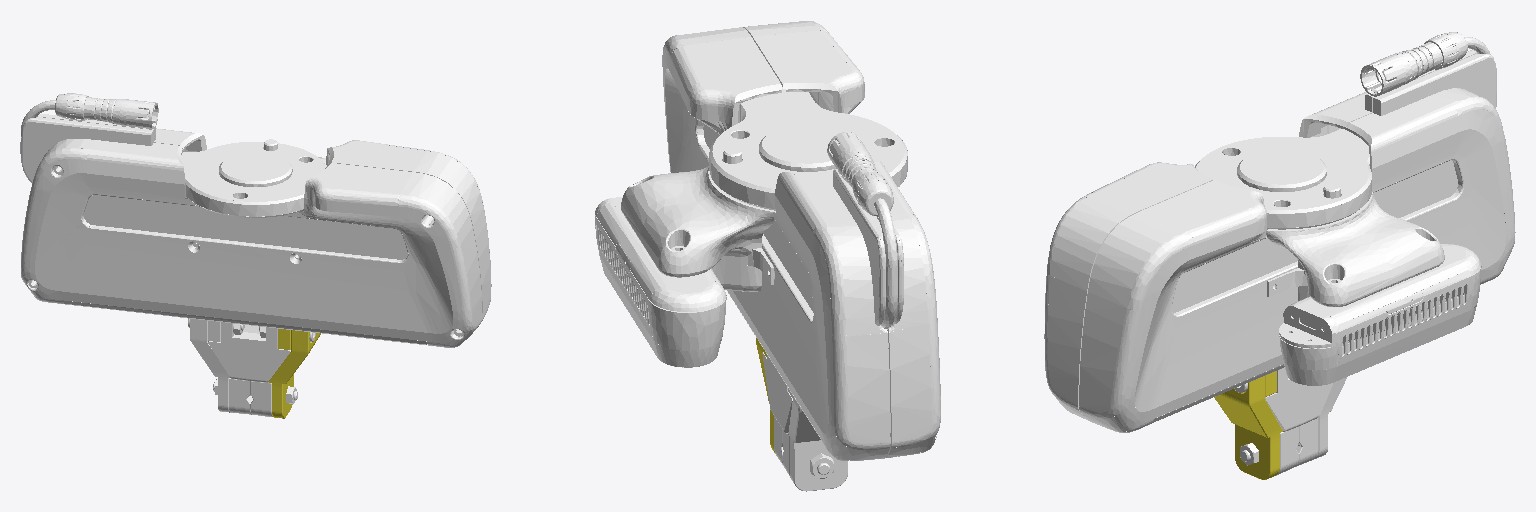
URDF robot description (panda):
<?xml version="1.0" ?>
<!-- =================================================================================== -->
<!-- |    This document was autogenerated by xacro from panda_arm_hand.urdf.xacro      | -->
<!-- |    EDITING THIS FILE BY HAND IS NOT RECOMMENDED                                 | -->
<!-- =================================================================================== -->
<robot name="panda" xmlns:xacro="http://www.ros.org/wiki/xacro">
    <link name="World" />
    <link name="panda_link0">
        <inertial>
            <origin xyz="0 0 0" rpy="0 0 0" />
            <mass value="3.06" />
            <inertia ixx="0.3" ixy="0.0" ixz="0.0" iyy="0.3" iyz="0.0" izz="0.3" />
        </inertial>
        <visual>
            <geometry>
                <mesh filename="package://franka_description/meshes/visual/link0.dae" />
            </geometry>
            <material name="panda_white" />
        </visual>
        <collision>
            <geometry>
                <mesh filename="package://franka_description/meshes/collision/link0.stl" />
            </geometry>
            <material name="panda_white" />
        </collision>
    </link>
    <joint name="virtual_joint" type="fixed">
        <parent link="World" />
        <child link="panda_link0" />
    </joint>
    <link name="panda_link1">
        <inertial>
            <origin xyz="0 0 0" rpy="0 0 0" />
            <mass value="3.06" />
            <inertia ixx="0.3" ixy="0.0" ixz="0.0" iyy="0.3" iyz="0.0" izz="0.3" />
        </inertial>
        <visual>
            <geometry>
                <mesh filename="package://franka_description/meshes/visual/link1.dae" />
            </geometry>
            <material name="panda_white" />
        </visual>
        <collision>
            <geometry>
                <mesh filename="package://franka_description/meshes/collision/link1.stl" />
            </geometry>
            <material name="panda_white" />
        </collision>
    </link>
    <joint name="panda_joint1" type="revolute">
        <safety_controller k_position="100.0" k_velocity="40.0" soft_lower_limit="-2.8973" soft_upper_limit="2.8973" />
        <origin rpy="0 0 0" xyz="0 0 0.333" />
        <parent link="panda_link0" />
        <child link="panda_link1" />
        <axis xyz="0 0 1" />
        <limit effort="87" lower="-2.9671" upper="2.9671" velocity="2.1750" />
    </joint>
    <link name="panda_link2">
        <inertial>
            <origin xyz="0 0 0" rpy="0 0 0" />
            <mass value="3.06" />
            <inertia ixx="0.3" ixy="0.0" ixz="0.0" iyy="0.3" iyz="0.0" izz="0.3" />
        </inertial>
        <visual>
            <geometry>
                <mesh filename="package://franka_description/meshes/visual/link2.dae" />
            </geometry>
            <material name="panda_white" />
        </visual>
        <collision>
            <geometry>
                <mesh filename="package://franka_description/meshes/collision/link2.stl" />
            </geometry>
            <material name="panda_white" />
        </collision>
    </link>
    <joint name="panda_joint2" type="revolute">
        <safety_controller k_position="100.0" k_velocity="40.0" soft_lower_limit="-1.7628" soft_upper_limit="1.7628" />
        <origin rpy="-1.57079632679 0 0" xyz="0 0 0" />
        <parent link="panda_link1" />
        <child link="panda_link2" />
        <axis xyz="0 0 1" />
        <limit effort="87" lower="-1.8326" upper="1.8326" velocity="2.1750" />
    </joint>
    <link name="panda_link3">
        <inertial>
            <origin xyz="0 0 0" rpy="0 0 0" />
            <mass value="3.06" />
            <inertia ixx="0.3" ixy="0.0" ixz="0.0" iyy="0.3" iyz="0.0" izz="0.3" />
        </inertial>
        <visual>
            <geometry>
                <mesh filename="package://franka_description/meshes/visual/link3.dae" />
            </geometry>
            <material name="panda_white" />
        </visual>
        <collision>
            <geometry>
                <mesh filename="package://franka_description/meshes/collision/link3.stl" />
            </geometry>
            <material name="panda_white" />
        </collision>
    </link>
    <joint name="panda_joint3" type="revolute">
        <safety_controller k_position="100.0" k_velocity="40.0" soft_lower_limit="-2.8973" soft_upper_limit="2.8973" />
        <origin rpy="1.57079632679 0 0" xyz="0 -0.316 0" />
        <parent link="panda_link2" />
        <child link="panda_link3" />
        <axis xyz="0 0 1" />
        <limit effort="87" lower="-2.9671" upper="2.9671" velocity="2.1750" />
    </joint>
    <link name="panda_link4">
        <inertial>
            <origin xyz="0 0 0" rpy="0 0 0" />
            <mass value="3.06" />
            <inertia ixx="0.3" ixy="0.0" ixz="0.0" iyy="0.3" iyz="0.0" izz="0.3" />
        </inertial>
        <visual>
            <geometry>
                <mesh filename="package://franka_description/meshes/visual/link4.dae" />
            </geometry>
            <material name="panda_white" />
        </visual>
        <collision>
            <geometry>
                <mesh filename="package://franka_description/meshes/collision/link4.stl" />
            </geometry>
            <material name="panda_white" />
        </collision>
    </link>
    <joint name="panda_joint4" type="revolute">
        <safety_controller k_position="100.0" k_velocity="40.0" soft_lower_limit="-3.0718" soft_upper_limit="-0.0698" />
        <origin rpy="1.57079632679 0 0" xyz="0.0825 0 0" />
        <parent link="panda_link3" />
        <child link="panda_link4" />
        <axis xyz="0 0 1" />
        <limit effort="87" lower="-3.1416" upper="0.0" velocity="2.1750" />
    </joint>
    <link name="panda_link5">
        <inertial>
            <origin xyz="0 0 0" rpy="0 0 0" />
            <mass value="3.06" />
            <inertia ixx="0.3" ixy="0.0" ixz="0.0" iyy="0.3" iyz="0.0" izz="0.3" />
        </inertial>
        <visual>
            <geometry>
                <mesh filename="package://franka_description/meshes/visual/link5.dae" />
            </geometry>
            <material name="panda_white" />
        </visual>
        <collision>
            <geometry>
                <mesh filename="package://franka_description/meshes/collision/link5.stl" />
            </geometry>
            <material name="panda_white" />
        </collision>
    </link>
    <joint name="panda_joint5" type="revolute">
        <safety_controller k_position="100.0" k_velocity="40.0" soft_lower_limit="-2.8973" soft_upper_limit="2.8973" />
        <origin rpy="-1.57079632679 0 0" xyz="-0.0825 0.384 0" />
        <parent link="panda_link4" />
        <child link="panda_link5" />
        <axis xyz="0 0 1" />
        <limit effort="12" lower="-2.9671" upper="2.9671" velocity="2.6100" />
    </joint>
    <link name="panda_link6">
        <inertial>
            <origin xyz="0 0 0" rpy="0 0 0" />
            <mass value="3.06" />
            <inertia ixx="0.3" ixy="0.0" ixz="0.0" iyy="0.3" iyz="0.0" izz="0.3" />
        </inertial>
        <visual>
            <geometry>
                <mesh filename="package://franka_description/meshes/visual/link6.dae" />
            </geometry>
            <material name="panda_white" />
        </visual>
        <collision>
            <geometry>
                <mesh filename="package://franka_description/meshes/collision/link6.stl" />
            </geometry>
            <material name="panda_white" />
        </collision>
    </link>
    <joint name="panda_joint6" type="revolute">
        <safety_controller k_position="100.0" k_velocity="40.0" soft_lower_limit="-0.0175" soft_upper_limit="3.7525" />
        <origin rpy="1.57079632679 0 0" xyz="0 0 0" />
        <parent link="panda_link5" />
        <child link="panda_link6" />
        <axis xyz="0 0 1" />
        <limit effort="12" lower="-0.0873" upper="3.8223" velocity="2.6100" />
    </joint>
    <link name="panda_link7">
        <inertial>
            <origin xyz="0 0 0" rpy="0 0 0" />
            <mass value="3.06" />
            <inertia ixx="0.3" ixy="0.0" ixz="0.0" iyy="0.3" iyz="0.0" izz="0.3" />
        </inertial>
        <visual>
            <geometry>
                <mesh filename="package://franka_description/meshes/visual/link7.dae" />
            </geometry>
            <material name="panda_white" />
        </visual>
        <collision>
            <geometry>
                <mesh filename="package://franka_description/meshes/collision/link7.stl" />
            </geometry>
            <material name="panda_white" />
        </collision>
    </link>
    <joint name="panda_joint7" type="revolute">
        <safety_controller k_position="100.0" k_velocity="40.0" soft_lower_limit="-2.8973" soft_upper_limit="2.8973" />
        <origin rpy="1.57079632679 0 0" xyz="0.088 0 0" />
        <parent link="panda_link6" />
        <child link="panda_link7" />
        <axis xyz="0 0 1" />
        <limit effort="12" lower="-2.9671" upper="2.9671" velocity="2.6100" />
    </joint>
    <link name="panda_link8">
        <inertial>
            <origin xyz="0 0 0" rpy="0 0 0" />
            <mass value="3.06" />
            <inertia ixx="0.3" ixy="0.0" ixz="0.0" iyy="0.3" iyz="0.0" izz="0.3" />
        </inertial>
    </link>
    <joint name="panda_joint8" type="fixed">
        <origin rpy="0 0 0" xyz="0 0 0.107" />
        <parent link="panda_link7" />
        <child link="panda_link8" />
        <axis xyz="0 0 0" />
    </joint>
    <joint name="panda_hand_joint" type="fixed">
        <parent link="panda_link8" />
        <child link="panda_hand" />
        <origin rpy="0 0 -0.785398163397" xyz="0 0 0" />
    </joint>
    <link name="panda_hand">
        <!-- <visual>
      <geometry>
        <mesh filename="package://franka_description/meshes/visual/hand.dae"/>
      </geometry>
      <material name="panda_white"/>
    </visual>
    <collision>
      <geometry>
        <mesh filename="package://franka_description/meshes/collision/hand.stl"/>
      </geometry>
      <material name="panda_white"/>
    </collision> -->
        <inertial>
            <origin xyz="0 0 0" rpy="0 0 0" />
            <mass value="0.68" />
            <inertia ixx="0.1" ixy="0.0" ixz="0.0" iyy="0.1" iyz="0.0" izz="0.1" />
        </inertial>
        <visual>
            <origin xyz="0. 0. 0." rpy="0. 0. 0." />
            <geometry>
                <mesh filename="package://panda_w_realsense_description/meshes/panda_hand_ID234_001.obj" scale="1. 1. 1." />
            </geometry>
            <material name="panda_white" />
        </visual>
        <visual>
            <origin xyz="0. 0. 0." rpy="0. 0. 0." />
            <geometry>
                <mesh filename="package://panda_w_realsense_description/meshes/panda_hand_ID234_001frA.obj" scale="1. 1. 1." />
            </geometry>
            <material name="panda_white" />
        </visual>
        <visual>
            <origin xyz="0. 0. 0." rpy="0. 0. 0." />
            <geometry>
                <mesh filename="package://panda_w_realsense_description/meshes/panda_hand_ID234_001jEI.obj" scale="1. 1. 1." />
            </geometry>
            <material name="panda_white" />
        </visual>
        <visual>
            <origin xyz="0. 0. 0." rpy="0. 0. 0." />
            <geometry>
                <mesh filename="package://panda_w_realsense_description/meshes/panda_hand_ID234_001m4u.obj" scale="1. 1. 1." />
            </geometry>
            <material name="panda_white" />
        </visual>
        <visual>
            <origin xyz="0. 0. 0." rpy="0. 0. 0.0000002" />
            <geometry>
                <mesh filename="package://panda_w_realsense_description/meshes/realsense_ID4_000.obj" scale="1. 1. 1." />
            </geometry>
            <material name="panda_white" />
        </visual>
        <visual>
            <origin xyz="0. 0. 0." rpy="0. 0. 0.0000002" />
            <geometry>
                <mesh filename="package://panda_w_realsense_description/meshes/realsense_ID4_000frA.obj" scale="1. 1. 1." />
            </geometry>
            <material name="panda_white" />
        </visual>
        <visual>
            <origin xyz="0. 0. 0." rpy="0. 0. 0.0000002" />
            <geometry>
                <mesh filename="package://panda_w_realsense_description/meshes/realsense_ID4_000jEI.obj" scale="1. 1. 1." />
            </geometry>
            <material name="panda_white" />
        </visual>
        <visual>
            <origin xyz="0. 0. 0." rpy="0. 0. 0.0000002" />
            <geometry>
                <mesh filename="package://panda_w_realsense_description/meshes/realsense_ID4_000m4u.obj" scale="1. 1. 1." />
            </geometry>
            <material name="panda_white" />
        </visual>
        <collision>
            <origin xyz="0. 0. 0." rpy="0. 0. 0." />
            <geometry>
                <mesh filename="package://panda_w_realsense_description/meshes/panda_hand_ID234_001frA.obj" scale="1. 1. 1." />
            </geometry>
            <material name="panda_white" />
        </collision>
        <collision>
            <origin xyz="0. 0. 0." rpy="0. 0. 0." />
            <geometry>
                <mesh filename="package://panda_w_realsense_description/meshes/panda_hand_ID234_001m4u.obj" scale="1. 1. 1." />
            </geometry>
            <material name="panda_white" />
        </collision>
        <collision>
            <origin xyz="0. 0. 0." rpy="0. 0. 0.0000002" />
            <geometry>
                <mesh filename="package://panda_w_realsense_description/meshes/realsense_ID4_000.obj" scale="1. 1. 1." />
            </geometry>
            <material name="panda_white" />
        </collision>
        <collision>
            <origin xyz="0. 0. 0." rpy="0. 0. 0.0000002" />
            <geometry>
                <mesh filename="package://panda_w_realsense_description/meshes/realsense_ID4_000m4u.obj" scale="1. 1. 1." />
            </geometry>
            <material name="panda_white" />
        </collision>
    </link>
    <link name="panda_leftfinger">
        <!-- <visual>
      <geometry>
        <mesh filename="package://franka_description/meshes/visual/finger.dae"/>
      </geometry>
      <material name="panda_white"/>
    </visual>
    <collision>
      <geometry>
        <mesh filename="package://franka_description/meshes/collision/finger.stl"/>
      </geometry>
      <material name="panda_white"/>
    </collision> -->
        <inertial>
            <origin xyz="0 0 0" rpy="0 0 0" />
            <mass value="0.01" />
            <inertia ixx="0.1" ixy="0.0" ixz="0.0" iyy="0.1" iyz="0.0" izz="0.1" />
        </inertial>
        <visual>
            <origin xyz="0. 0. 0." rpy="0. 0. 0." />
            <geometry>
                <mesh filename="package://panda_w_realsense_description/meshes/geometry_ID27.obj" scale="1. 1. 1." />
            </geometry>
            <material name="panda_white" />
        </visual>
        <visual>
            <origin xyz="0. 0. 0." rpy="0. 0. 0." />
            <geometry>
                <mesh filename="package://panda_w_realsense_description/meshes/geometry_ID27fa3.obj" scale="1. 1. 1." />
            </geometry>
            <material name="panda_white" />
        </visual>
        <visual>
            <origin xyz="0. 0. 0." rpy="0. 0. 0." />
            <geometry>
                <mesh filename="package://panda_w_realsense_description/meshes/geometry_ID27SVM.obj" scale="1. 1. 1." />
            </geometry>
        </visual>
        <collision>
            <origin xyz="0. 0. 0." rpy="0. 0. 0." />
            <geometry>
                <mesh filename="package://panda_w_realsense_description/meshes/geometry_ID27.obj" scale="1. 1. 1." />
            </geometry>
            <material name="panda_white" />
        </collision>
        <collision>
            <origin xyz="0. 0. 0." rpy="0. 0. 0." />
            <geometry>
                <mesh filename="package://panda_w_realsense_description/meshes/geometry_ID27SVM.obj" scale="1. 1. 1." />
            </geometry>
            <material name="panda_white" />
        </collision>
    </link>
    <link name="panda_rightfinger">
        <!-- <visual>
      <origin rpy="0 0 3.14159265359" xyz="0 0 0"/>
      <geometry>
        <mesh filename="package://franka_description/meshes/visual/finger.dae"/>
      </geometry>
      <material name="panda_white"/>
    </visual>
    <collision>
      <origin rpy="0 0 3.14159265359" xyz="0 0 0"/>
      <geometry>
        <mesh filename="package://franka_description/meshes/collision/finger.stl"/>
      </geometry>
      <material name="panda_white"/>
    </collision> -->
        <inertial>
            <origin xyz="0 0 0" rpy="0 0 0" />
            <mass value="0.01" />
            <inertia ixx="0.1" ixy="0.0" ixz="0.0" iyy="0.1" iyz="0.0" izz="0.1" />
        </inertial>
        <visual>
            <origin xyz="0. 0. 0." rpy="0. 0. 3.1415927" />
            <geometry>
                <mesh filename="package://panda_w_realsense_description/meshes/geometry_ID27.obj" scale="1. 1. 1." />
            </geometry>
            <material name="panda_white" />
        </visual>
        <visual>
            <origin xyz="0. 0. 0." rpy="0. 0. 3.1415927" />
            <geometry>
                <mesh filename="package://panda_w_realsense_description/meshes/geometry_ID27fa3.obj" scale="1. 1. 1." />
            </geometry>
            <material name="panda_white" />
        </visual>
        <visual>
            <origin xyz="0. 0. 0." rpy="0. 0. 3.1415927" />
            <geometry>
                <mesh filename="package://panda_w_realsense_description/meshes/geometry_ID27SVM.obj" scale="1. 1. 1." />
            </geometry>
            <material name="panda_white" />
        </visual>
        <collision>
            <origin xyz="0. 0. 0." rpy="0. 0. 3.1415927" />
            <geometry>
                <mesh filename="package://panda_w_realsense_description/meshes/geometry_ID27.obj" scale="1. 1. 1." />
            </geometry>
            <material name="panda_white" />
        </collision>
        <collision>
            <origin xyz="0. 0. 0." rpy="0. 0. 3.1415927" />
            <geometry>
                <mesh filename="package://panda_w_realsense_description/meshes/geometry_ID27SVM.obj" scale="1. 1. 1." />
            </geometry>
            <material name="panda_white" />
        </collision>
    </link>
    <joint name="panda_finger_joint1" type="prismatic">
        <parent link="panda_hand" />
        <child link="panda_leftfinger" />
        <origin rpy="0 0 0" xyz="0 0 0.0584" />
        <axis xyz="0 1 0" />
        <limit effort="20" lower="0.0" upper="0.04" velocity="0.2" />
    </joint>
    <joint name="panda_finger_joint2" type="prismatic">
        <parent link="panda_hand" />
        <child link="panda_rightfinger" />
        <origin rpy="0 0 0" xyz="0 0 0.0584" />
        <axis xyz="0 -1 0" />
        <limit effort="20" lower="0.0" upper="0.04" velocity="0.2" />
        <mimic joint="panda_finger_joint1" />
    </joint>
    <material name="panda_white">
        <color rgba="1. 1. 1. 1." />
    </material>

    <transmission name="trans_panda_joint1">
        <type>transmission_interface/SimpleTransmission</type>
        <joint name="panda_joint1">
            <hardwareInterface>hardware_interface/EffortJointInterface</hardwareInterface>
        </joint>
        <actuator name="panda_joint1_motor">
            <hardwareInterface>hardware_interface/EffortJointInterface</hardwareInterface>
            <mechanicalReduction>1</mechanicalReduction>
        </actuator>
    </transmission>
    <transmission name="trans_panda_joint2">
        <type>transmission_interface/SimpleTransmission</type>
        <joint name="panda_joint2">
            <hardwareInterface>hardware_interface/EffortJointInterface</hardwareInterface>
        </joint>
        <actuator name="panda_joint2_motor">
            <hardwareInterface>hardware_interface/EffortJointInterface</hardwareInterface>
            <mechanicalReduction>1</mechanicalReduction>
        </actuator>
    </transmission>
    <transmission name="trans_panda_joint3">
        <type>transmission_interface/SimpleTransmission</type>
        <joint name="panda_joint3">
            <hardwareInterface>hardware_interface/EffortJointInterface</hardwareInterface>
        </joint>
        <actuator name="panda_joint3_motor">
            <hardwareInterface>hardware_interface/EffortJointInterface</hardwareInterface>
            <mechanicalReduction>1</mechanicalReduction>
        </actuator>
    </transmission>
    <transmission name="trans_panda_joint4">
        <type>transmission_interface/SimpleTransmission</type>
        <joint name="panda_joint4">
            <hardwareInterface>hardware_interface/EffortJointInterface</hardwareInterface>
        </joint>
        <actuator name="panda_joint4_motor">
            <hardwareInterface>hardware_interface/EffortJointInterface</hardwareInterface>
            <mechanicalReduction>1</mechanicalReduction>
        </actuator>
    </transmission>
    <transmission name="trans_panda_joint5">
        <type>transmission_interface/SimpleTransmission</type>
        <joint name="panda_joint5">
            <hardwareInterface>hardware_interface/EffortJointInterface</hardwareInterface>
        </joint>
        <actuator name="panda_joint5_motor">
            <hardwareInterface>hardware_interface/EffortJointInterface</hardwareInterface>
            <mechanicalReduction>1</mechanicalReduction>
        </actuator>
    </transmission>
    <transmission name="trans_panda_joint6">
        <type>transmission_interface/SimpleTransmission</type>
        <joint name="panda_joint6">
            <hardwareInterface>hardware_interface/EffortJointInterface</hardwareInterface>
        </joint>
        <actuator name="panda_joint6_motor">
            <hardwareInterface>hardware_interface/EffortJointInterface</hardwareInterface>
            <mechanicalReduction>1</mechanicalReduction>
        </actuator>
    </transmission>
    <transmission name="trans_panda_joint7">
        <type>transmission_interface/SimpleTransmission</type>
        <joint name="panda_joint7">
            <hardwareInterface>hardware_interface/EffortJointInterface</hardwareInterface>
        </joint>
        <actuator name="panda_joint7_motor">
            <hardwareInterface>hardware_interface/EffortJointInterface</hardwareInterface>
            <mechanicalReduction>1</mechanicalReduction>
        </actuator>
    </transmission>
    <transmission name="trans_panda_finger_joint1">
        <type>transmission_interface/SimpleTransmission</type>
        <joint name="panda_finger_joint1">
            <hardwareInterface>hardware_interface/EffortJointInterface</hardwareInterface>
        </joint>
        <actuator name="panda_finger_joint1_motor">
            <hardwareInterface>hardware_interface/EffortJointInterface</hardwareInterface>
            <mechanicalReduction>1</mechanicalReduction>
        </actuator>
    </transmission>
    <transmission name="trans_panda_finger_joint2">
        <type>transmission_interface/SimpleTransmission</type>
        <joint name="panda_finger_joint2">
            <hardwareInterface>hardware_interface/EffortJointInterface</hardwareInterface>
        </joint>
        <actuator name="panda_finger_joint2_motor">
            <hardwareInterface>hardware_interface/EffortJointInterface</hardwareInterface>
            <mechanicalReduction>1</mechanicalReduction>
        </actuator>
    </transmission>
    <gazebo>
        <plugin name="gazebo_ros_control">
            <robotNamespace>/</robotNamespace>
        </plugin>
    </gazebo>
</robot>

--- Facts derived from the render (not from the file) ---
Views: 3 orthographic renders of the robot side by side, from view 1: azimuth 30°, elevation 25°; view 2: azimuth 150°, elevation 25°; view 3: azimuth 270°, elevation 25°.
Model panda with 13 links and 12 joints (7 revolute, 2 prismatic, 3 fixed), rooted at World, posed all joints at 0.
Visible links, largest first — view 1: panda_hand, panda_leftfinger, panda_rightfinger; view 2: panda_hand, panda_rightfinger, panda_leftfinger; view 3: panda_hand, panda_leftfinger, panda_rightfinger.
Boxes of the visible links, x1=… form: panda_hand: x1=20, y1=93, x2=491, y2=347; panda_leftfinger: x1=249, y1=326, x2=320, y2=418; panda_rightfinger: x1=188, y1=318, x2=253, y2=414; panda_hand: x1=595, y1=21, x2=940, y2=461; panda_rightfinger: x1=777, y1=371, x2=847, y2=491; panda_leftfinger: x1=756, y1=338, x2=783, y2=464; panda_hand: x1=1044, y1=32, x2=1515, y2=432; panda_leftfinger: x1=1214, y1=367, x2=1302, y2=479; panda_rightfinger: x1=1296, y1=377, x2=1346, y2=466.
Bounding box of the posed robot: 0.1649 × 0.1649 × 0.1391 m (x, y, z).
Meshes: 19 distinct files referenced, 14 mesh visuals loaded (11 OBJ); not drawn: 8 (reference not matched to a file when rendering).